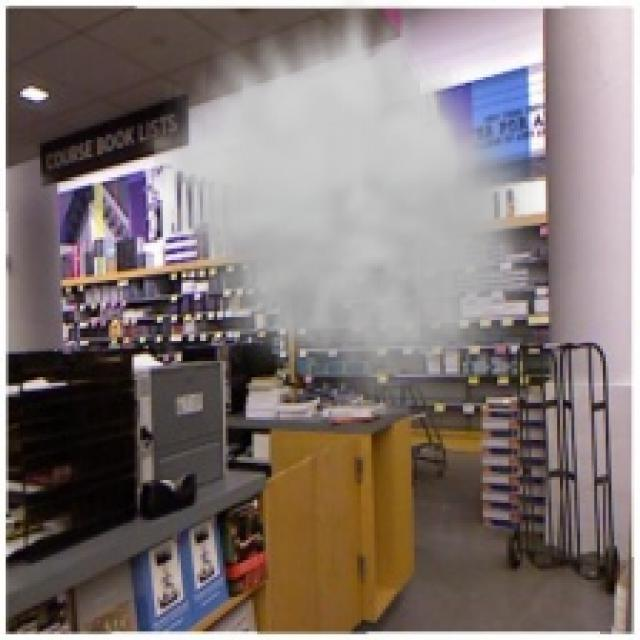smoke: (154, 0, 546, 415)
